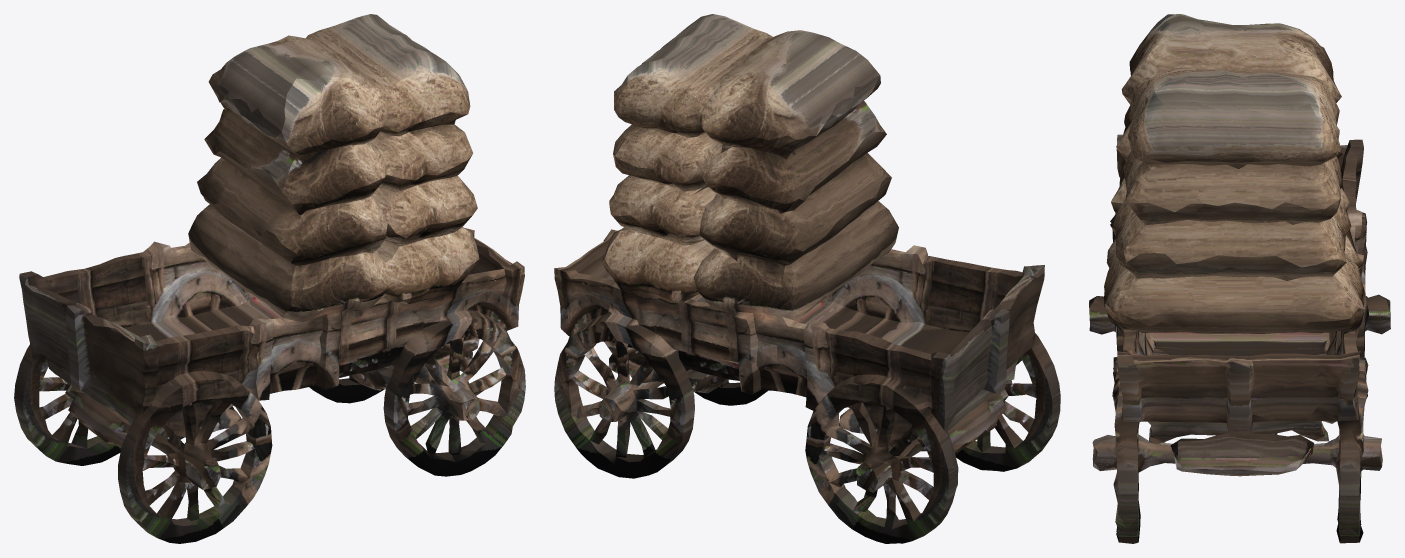
File: wagon.glb
3 renders of one model, left to right at view 1: azimuth 30°, elevation 25°; view 2: azimuth 150°, elevation 25°; view 3: azimuth 270°, elevation 25°, orthographic. The views are drawn at different scales.
Visible parts, largest first — view 1: geometry_0; view 2: geometry_0; view 3: geometry_0.
Boxes of the visible parts, left/top/right/bottom form: geometry_0: left=14, top=14, right=525, bottom=543; geometry_0: left=554, top=14, right=1060, bottom=543; geometry_0: left=1089, top=14, right=1390, bottom=543.
Size of the model in its own units: 2.01 by 2 by 1.2.
Materials: 1 (1 with a texture image).
